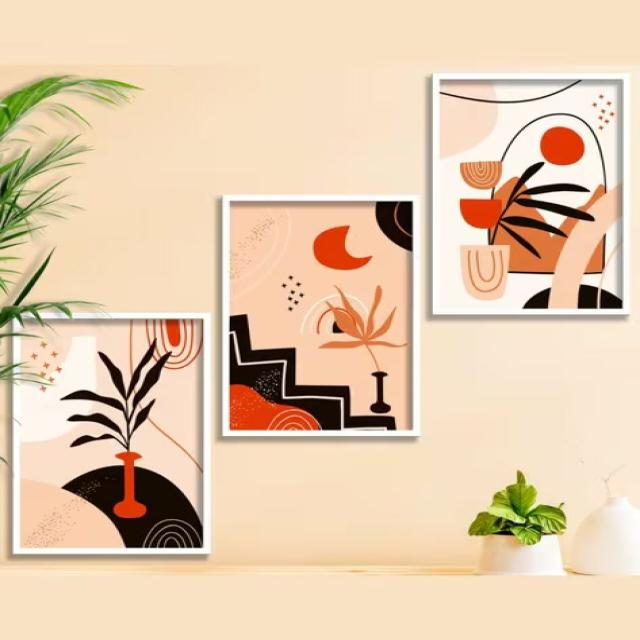painting: (430, 70, 630, 316), (221, 197, 421, 443), (11, 311, 210, 557)
